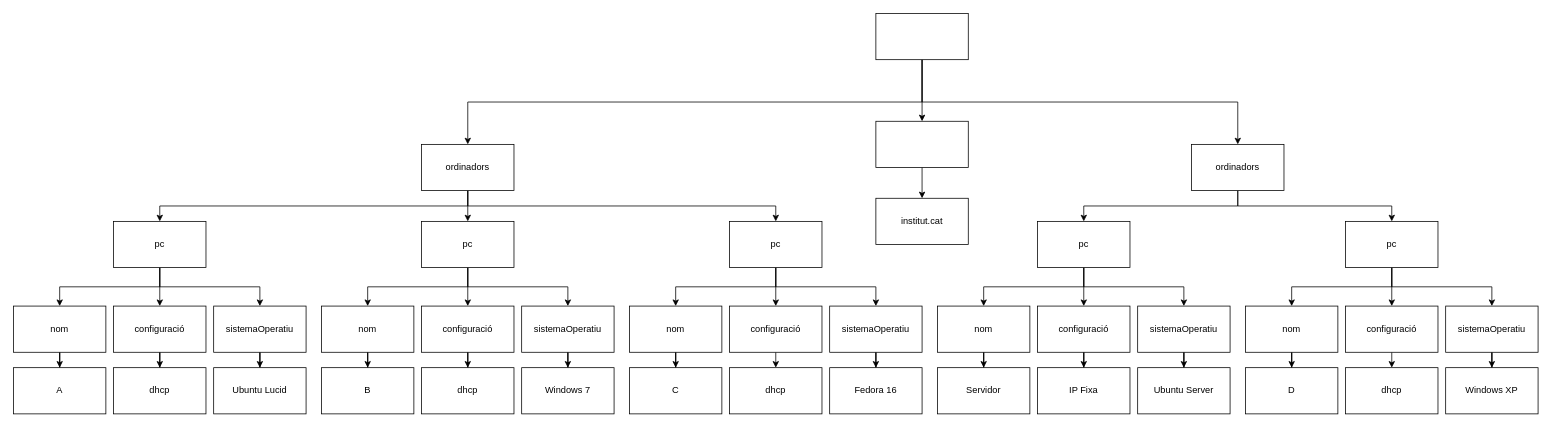
This 1552x427 diagram has some shape labels left out. Each missing label, with the centre of its shape:
"domini" belongs at (x=921, y=144).
"xarxa" belongs at (x=921, y=36).
